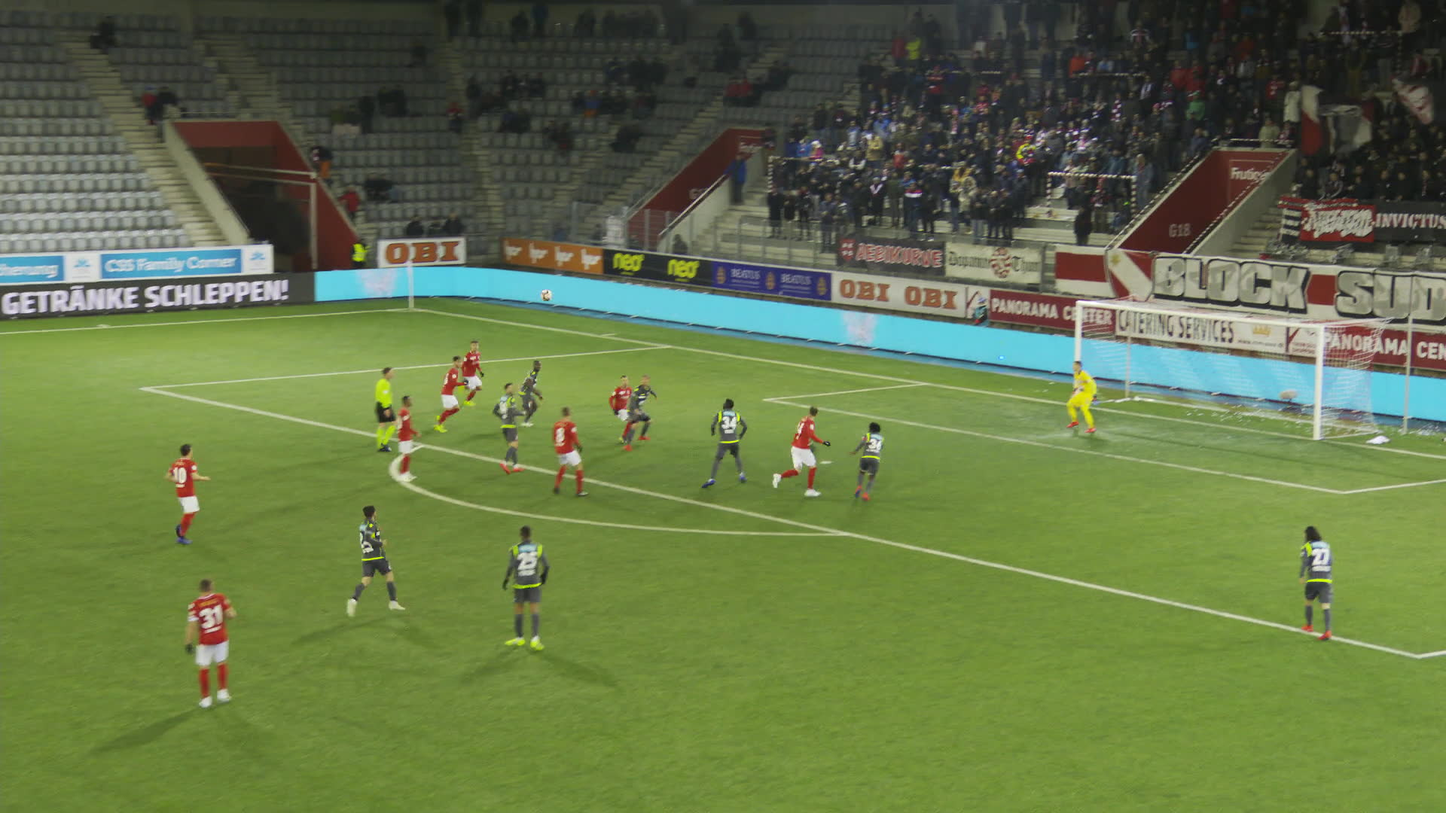ball: (540, 293, 553, 304)
player: (191, 577, 243, 702), (508, 521, 556, 645), (344, 507, 401, 611), (776, 403, 834, 494), (158, 437, 209, 540), (1303, 520, 1341, 637), (706, 397, 749, 486), (555, 403, 590, 492), (853, 419, 890, 501), (495, 380, 526, 472), (430, 355, 468, 427), (627, 375, 664, 446), (513, 359, 552, 425), (396, 392, 424, 478), (450, 335, 489, 394), (1065, 361, 1097, 432), (609, 370, 638, 440)
referee: (378, 364, 404, 447)
